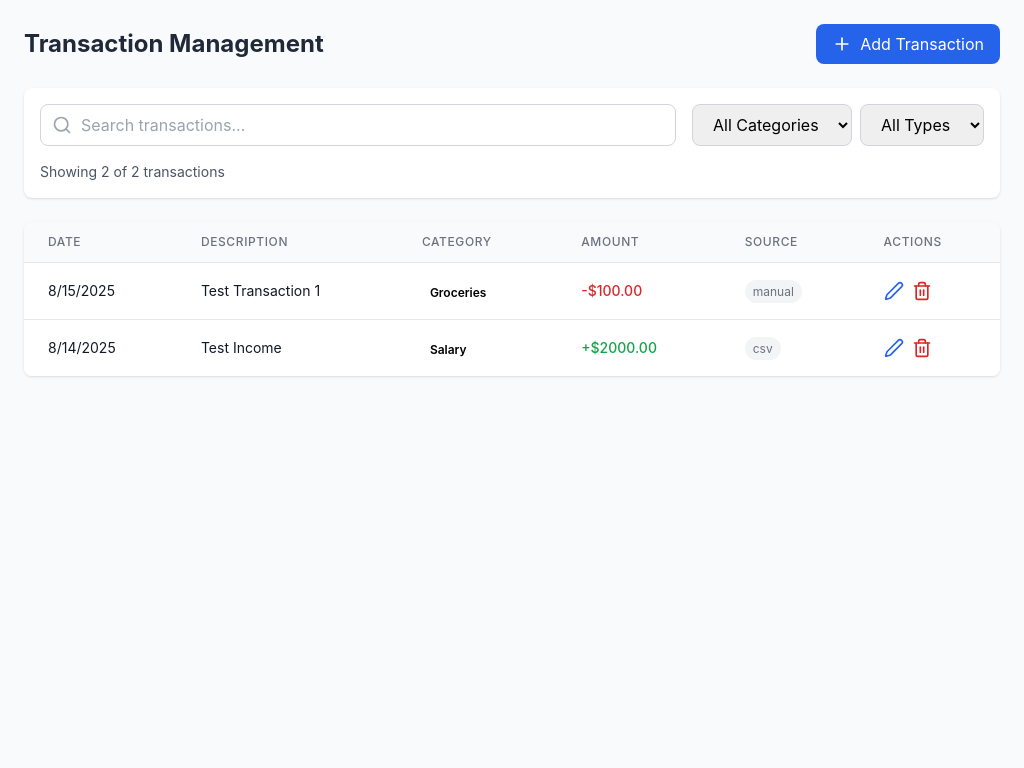
Scenario: TransactionManager Component › opens add transaction form when button clicked
Step 1. Click the button "Add Transaction" → click(908, 44), box [816, 24, 1000, 64]
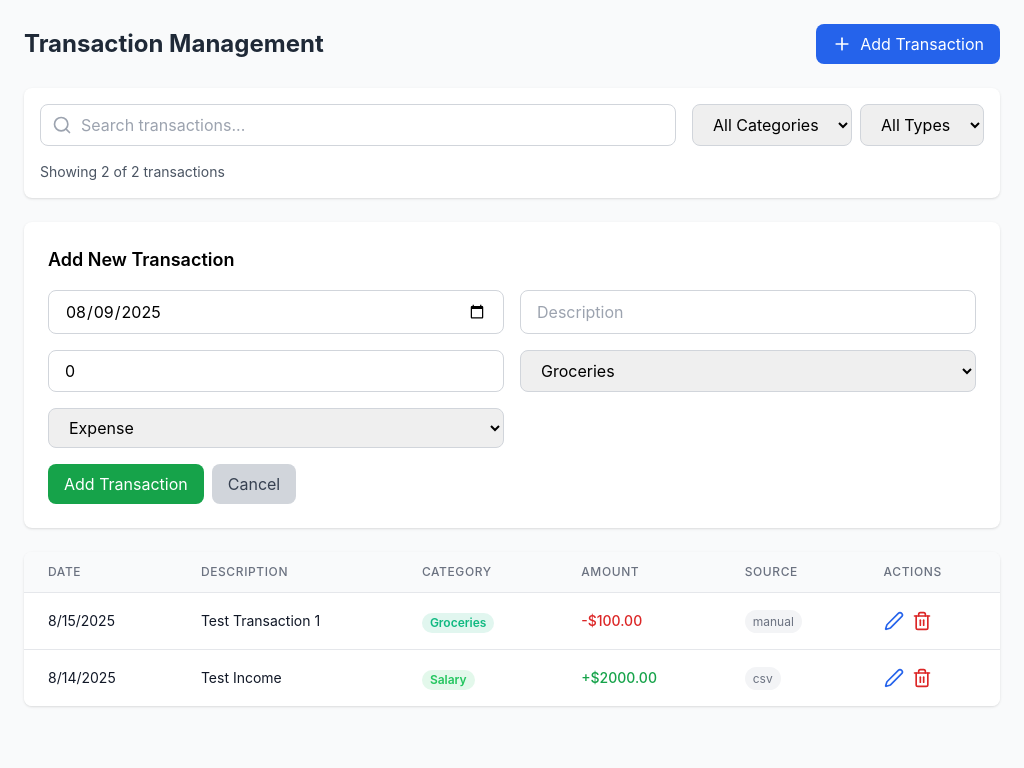
Check: the heading "Add New Transaction" is shown, box [48, 249, 234, 270]
